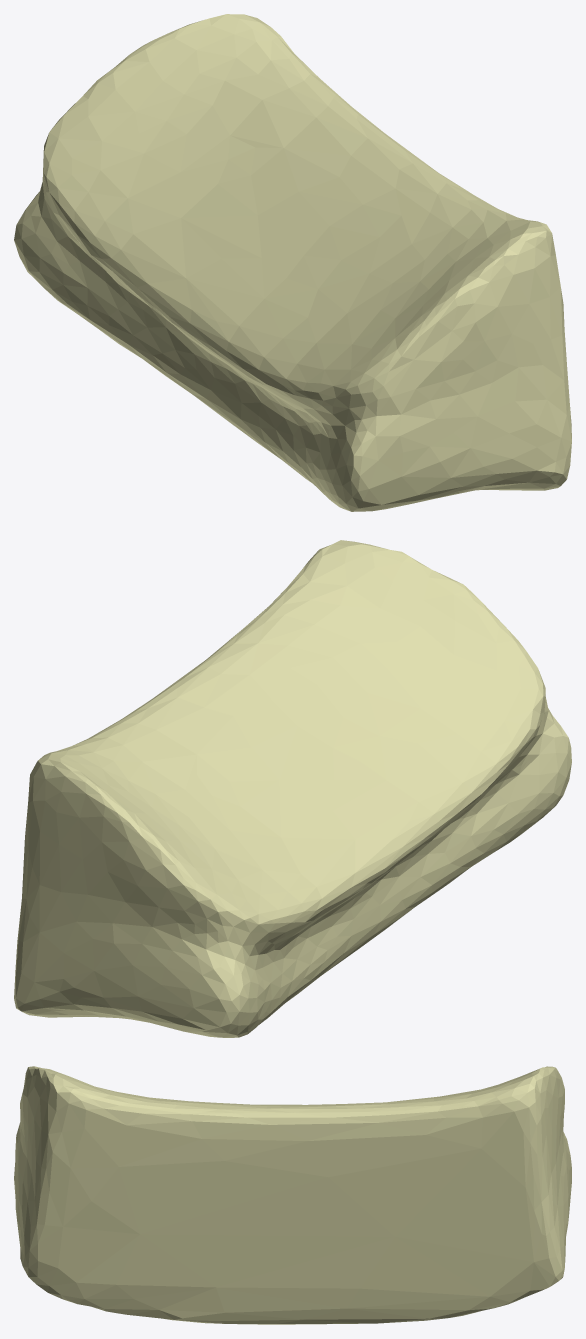
3 renders of one model, top to bottom at view 1: azimuth 30°, elevation 25°; view 2: azimuth 150°, elevation 25°; view 3: azimuth 270°, elevation 25°, orthographic. The views are drawn at different scales.
Parts seen in each view (by area): view 1: 951.obj; view 2: 951.obj; view 3: 951.obj.
Boxes of the visible parts, x1=… form: 951.obj: x1=14, y1=14, x2=571, y2=511; 951.obj: x1=14, y1=540, x2=571, y2=1037; 951.obj: x1=14, y1=1066, x2=571, y2=1324.
Bounding box in the file's own units: 904 × 1101 × 2306.
